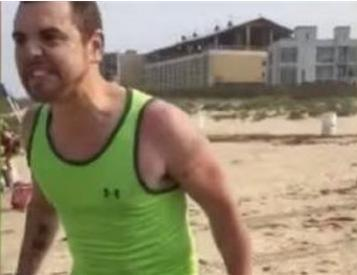Drunk: (14, 8, 78, 96)
